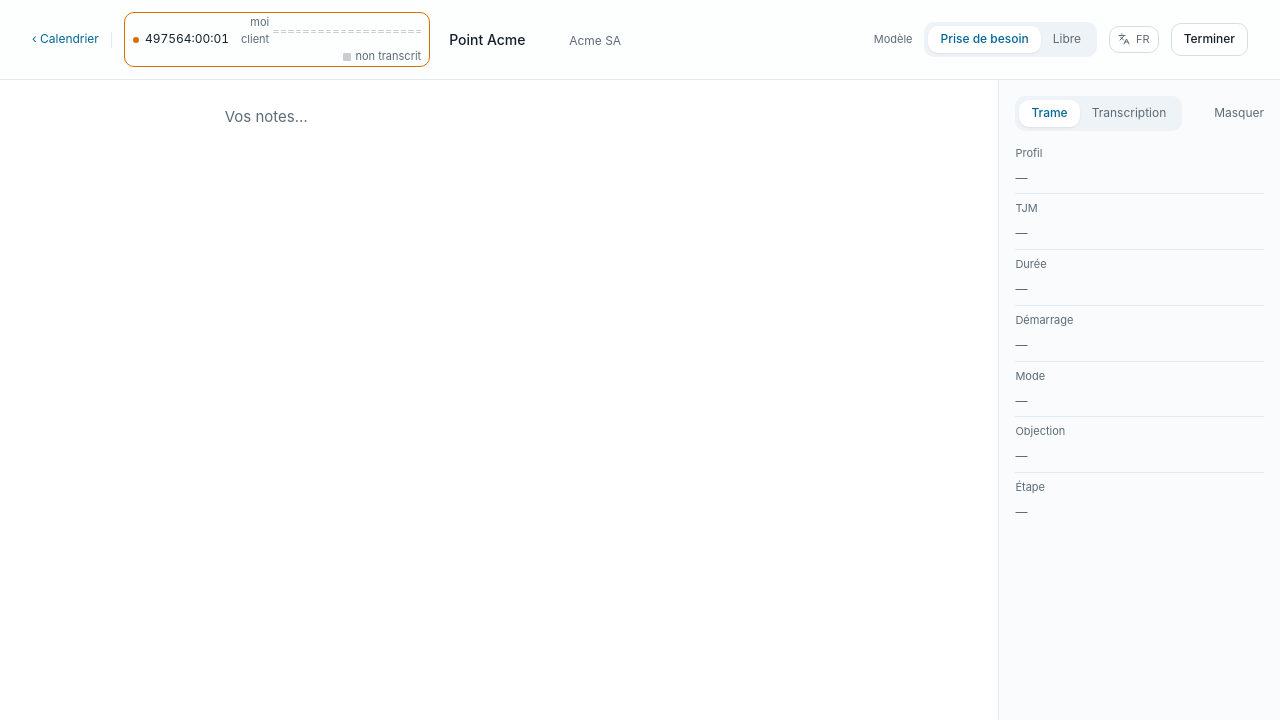
the column opens on the slate and the transcript is asked for › the window collects the turns, so switching late does not start the record late
Check: the button "Terminer" is shown, box [1171,23,1248,56]
Click the button "Transcription". click: x=1129, y=113
box: [1080,100,1178,127]
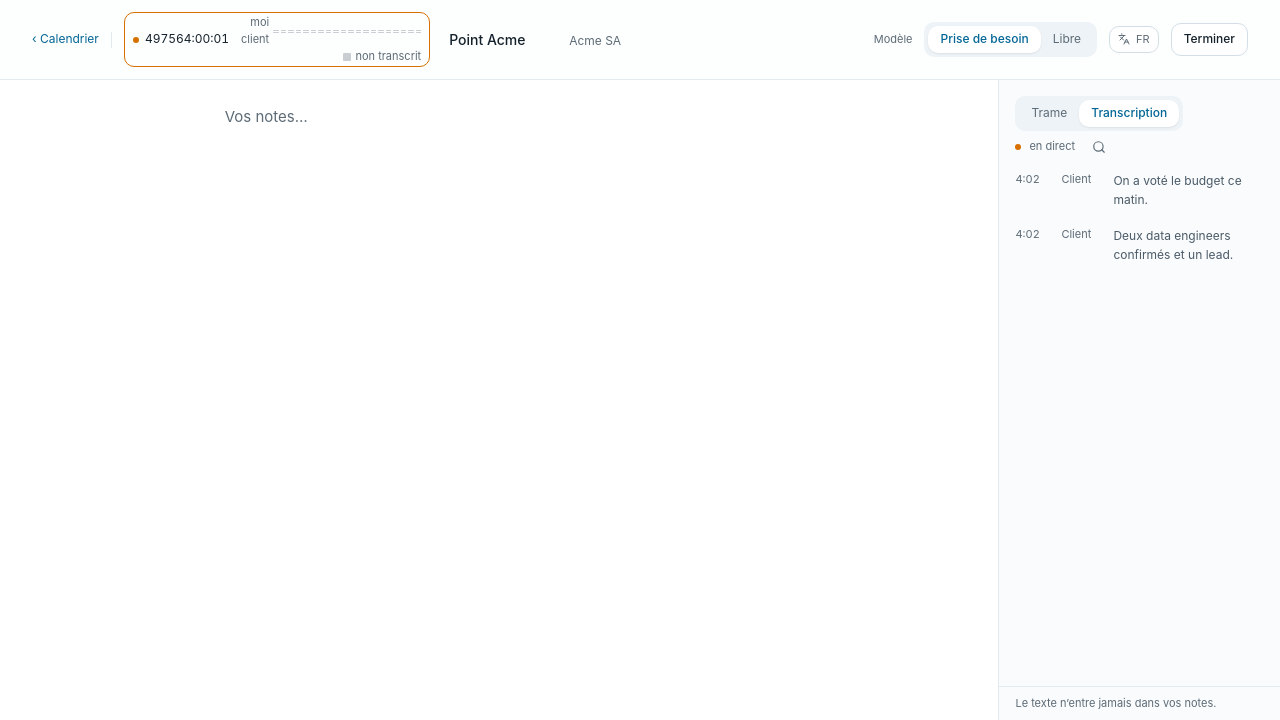
Check: the text "On a voté le budget ce matin." is shown, box [1113,171,1264,210]
Check: the text "Deux data engineers confirmés et un lead." is shown, box [1113,228,1233,262]
